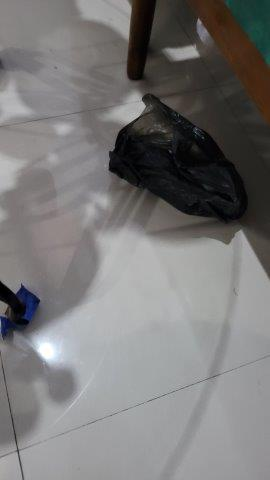plastik: (109, 92, 249, 224)
